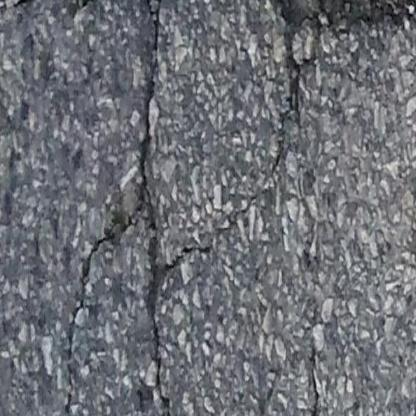Cracks: (53, 0, 217, 416), (256, 0, 416, 177), (28, 0, 52, 8)
